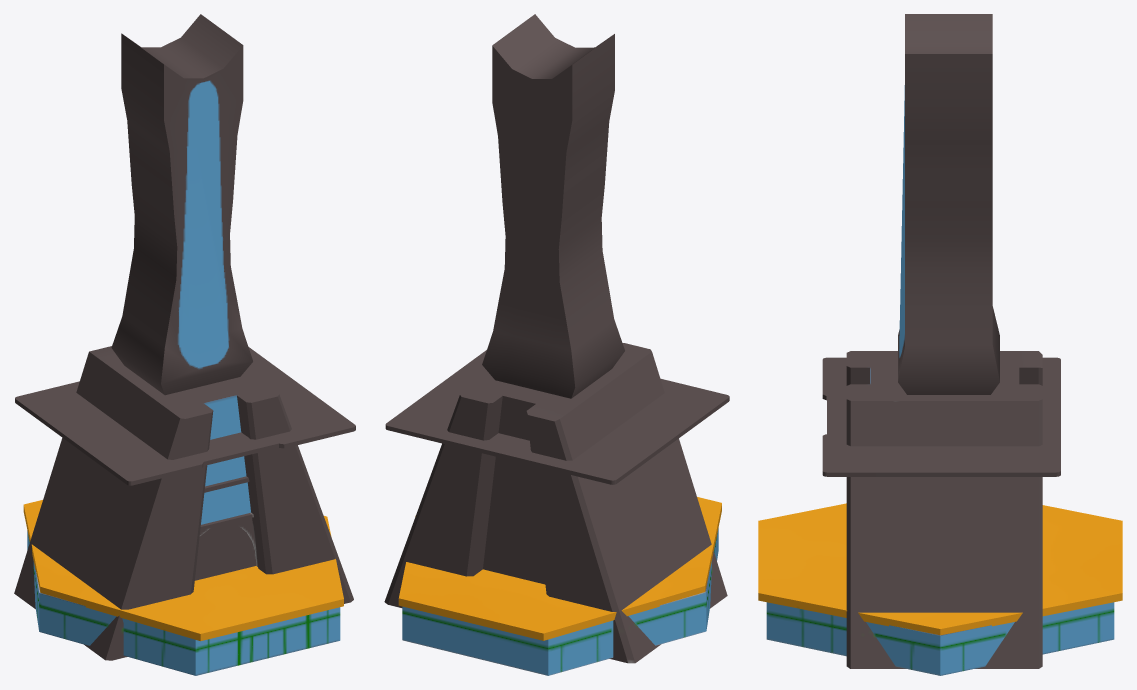
The model's file is tower.fbx.
3 renders of one model, left to right at view 1: azimuth 30°, elevation 25°; view 2: azimuth 150°, elevation 25°; view 3: azimuth 270°, elevation 25°, orthographic. The views are drawn at different scales.
Parts seen in each view (by area): view 1: polySurface23; view 2: polySurface23; view 3: polySurface23.
Boxes of the visible parts, <box> form: polySurface23: <box>14,14,355,675</box>; polySurface23: <box>384,14,729,675</box>; polySurface23: <box>758,14,1122,675</box>.
Size of the model in its own units: 8.98 by 16.48 by 9.51.
1 material, 1 textured.
